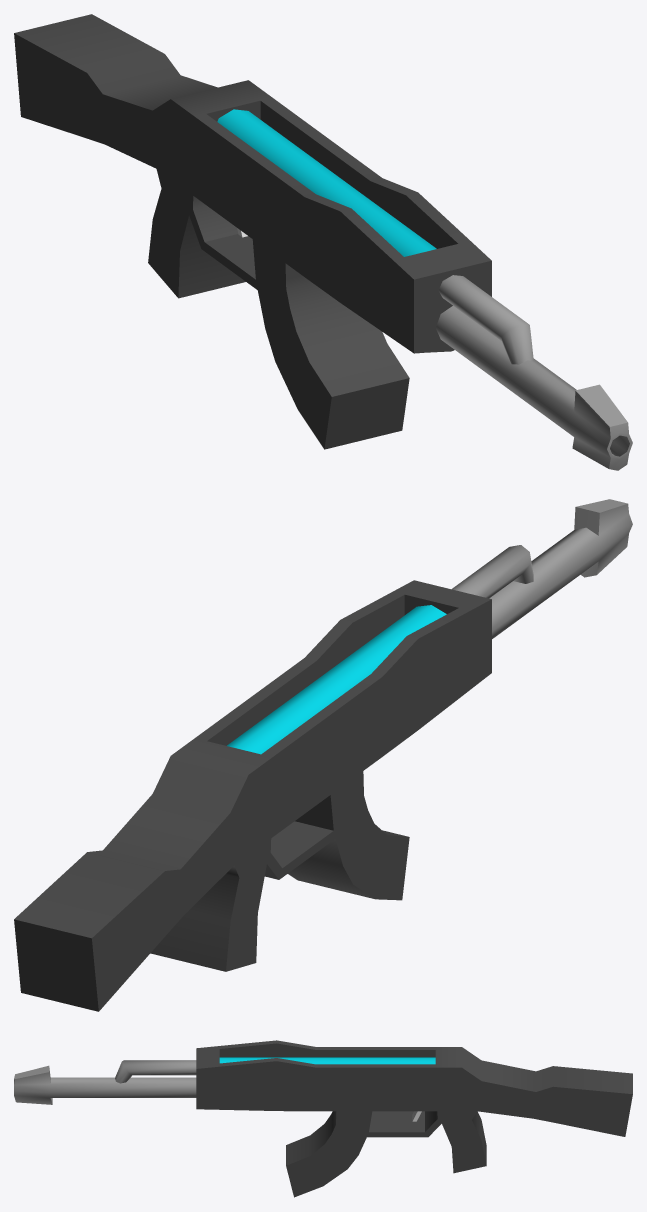
Rendered from Modeling_Fusil.fbx.
3 views of the same model, one above another, from view 1: azimuth 30°, elevation 25°; view 2: azimuth 150°, elevation 25°; view 3: azimuth 270°, elevation 25° (orthographic). The views are drawn at different scales.
Visible parts, largest first — view 1: base_fusil, canon_primaire_fusil, tube_electrique_fusil, canon_secondaire_fusil; view 2: base_fusil, canon_primaire_fusil, tube_electrique_fusil, canon_secondaire_fusil; view 3: base_fusil, canon_primaire_fusil, tube_electrique_fusil, canon_secondaire_fusil.
Boxes of the visible parts, left/top/right/bottom form: base_fusil: left=14, top=14, right=491, bottom=449; canon_primaire_fusil: left=436, top=306, right=632, bottom=470; tube_electrique_fusil: left=217, top=109, right=436, bottom=256; canon_secondaire_fusil: left=438, top=275, right=533, bottom=364; base_fusil: left=14, top=580, right=491, bottom=1011; canon_primaire_fusil: left=489, top=499, right=632, bottom=638; tube_electrique_fusil: left=227, top=605, right=446, bottom=754; canon_secondaire_fusil: left=452, top=545, right=533, bottom=598; base_fusil: left=196, top=1040, right=632, bottom=1197; canon_primaire_fusil: left=14, top=1065, right=196, bottom=1104; tube_electrique_fusil: left=219, top=1057, right=435, bottom=1064; canon_secondaire_fusil: left=115, top=1060, right=196, bottom=1083.
Size of the model in its own units: 12.98 by 39.83 by 164.
